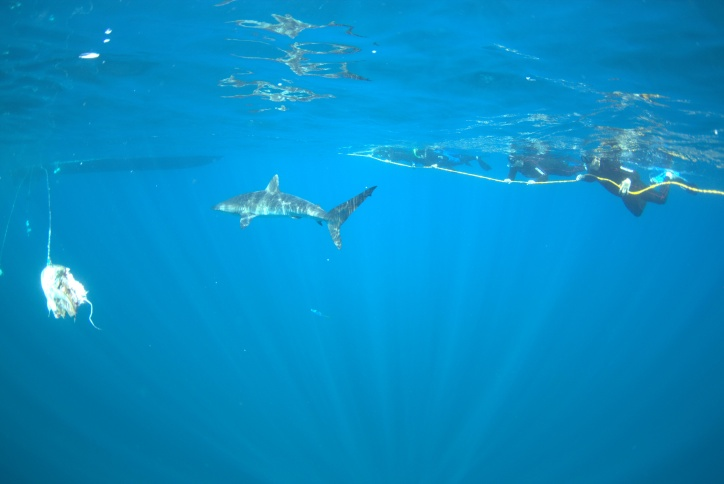Sedoso: (182, 167, 381, 259)
